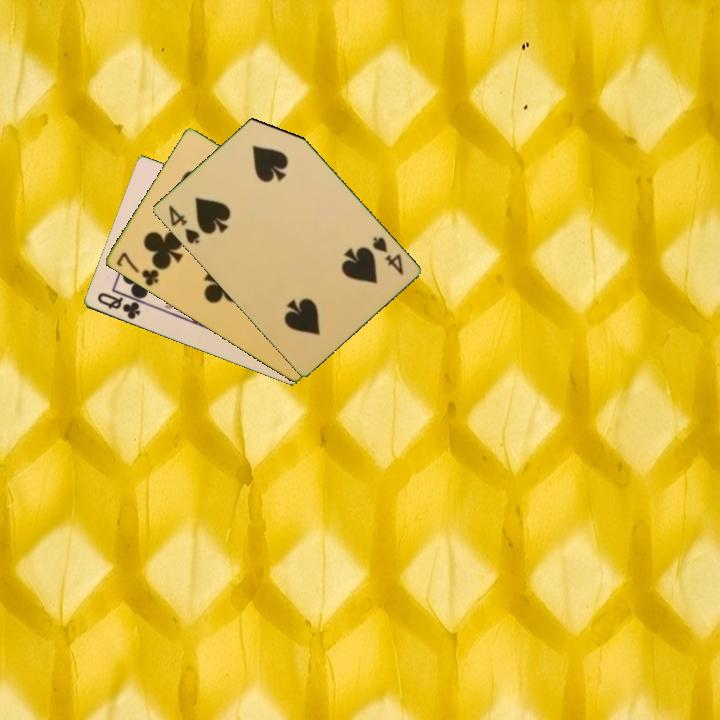4s: (164, 201, 202, 247), (368, 233, 406, 278)
7c: (113, 249, 162, 289)
Qc: (93, 289, 143, 323)
